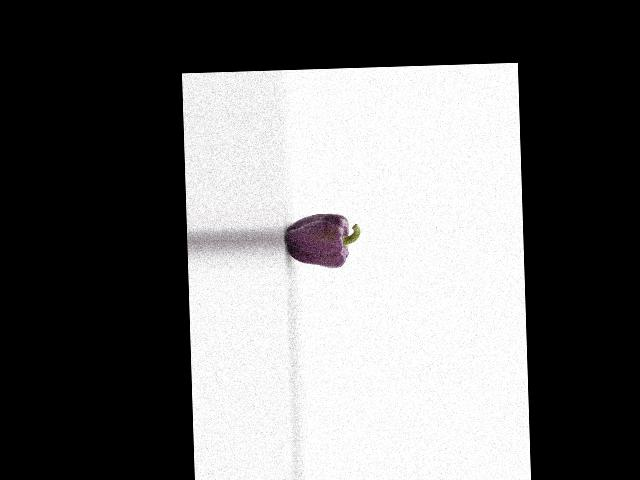bell_pepper: (285, 206, 360, 273)
